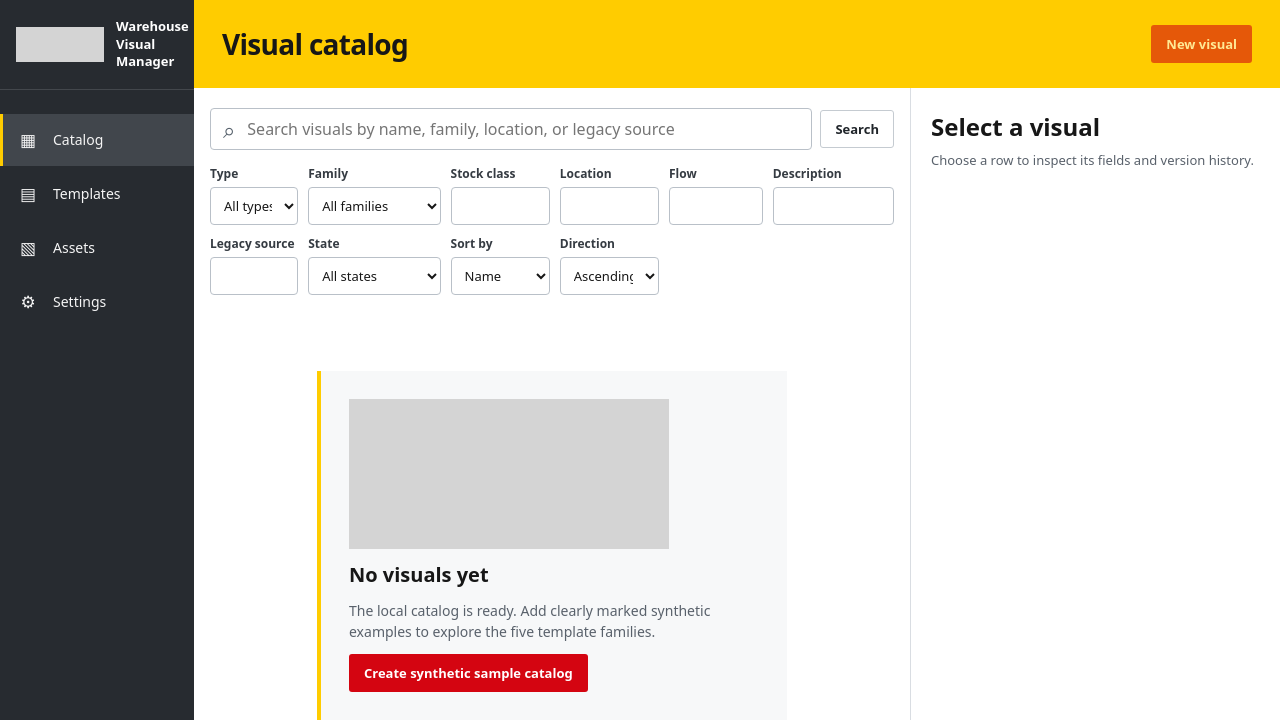
Test case: CatalogApp › shows an explicit empty state with synthetic sample initialization
Expected: the heading "No visuals yet" is shown, left=349, top=561, right=489, bottom=588
Click the button "Create synthetic sample catalog": point(468, 673) left=349, top=654, right=588, bottom=692
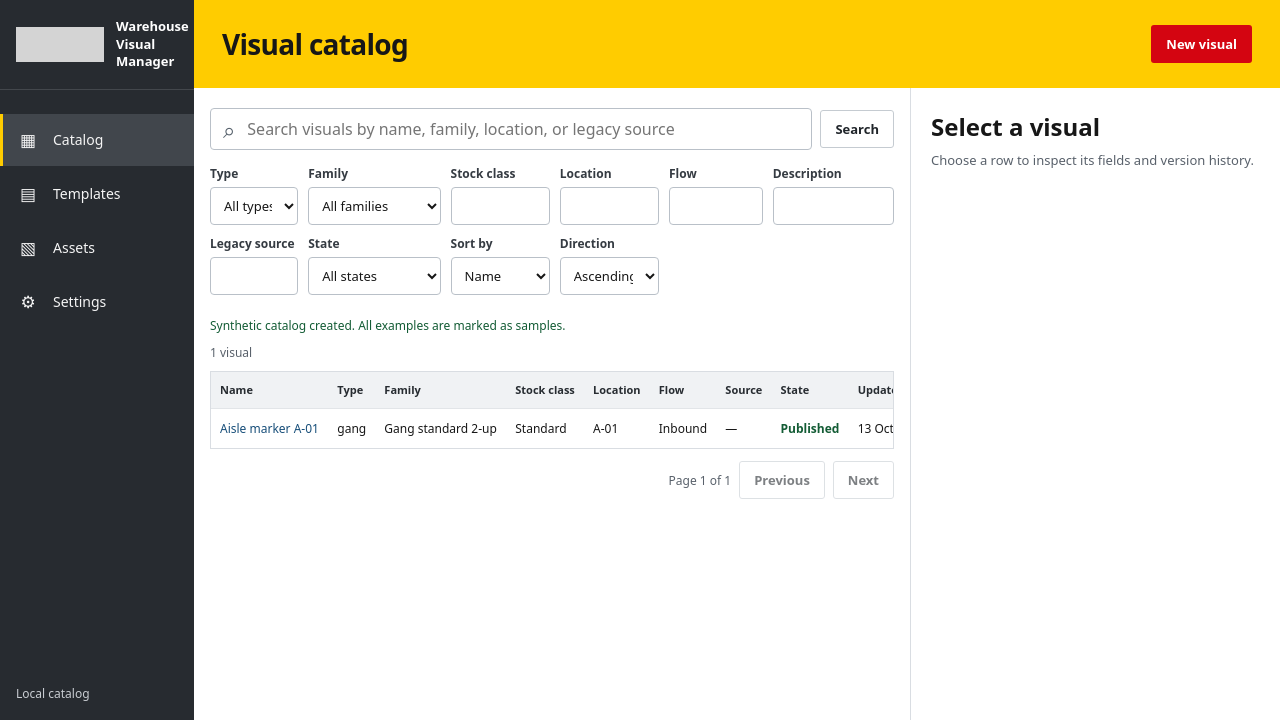
Expected: the row "Aisle marker A-01" is shown, left=211, top=408, right=894, bottom=448
